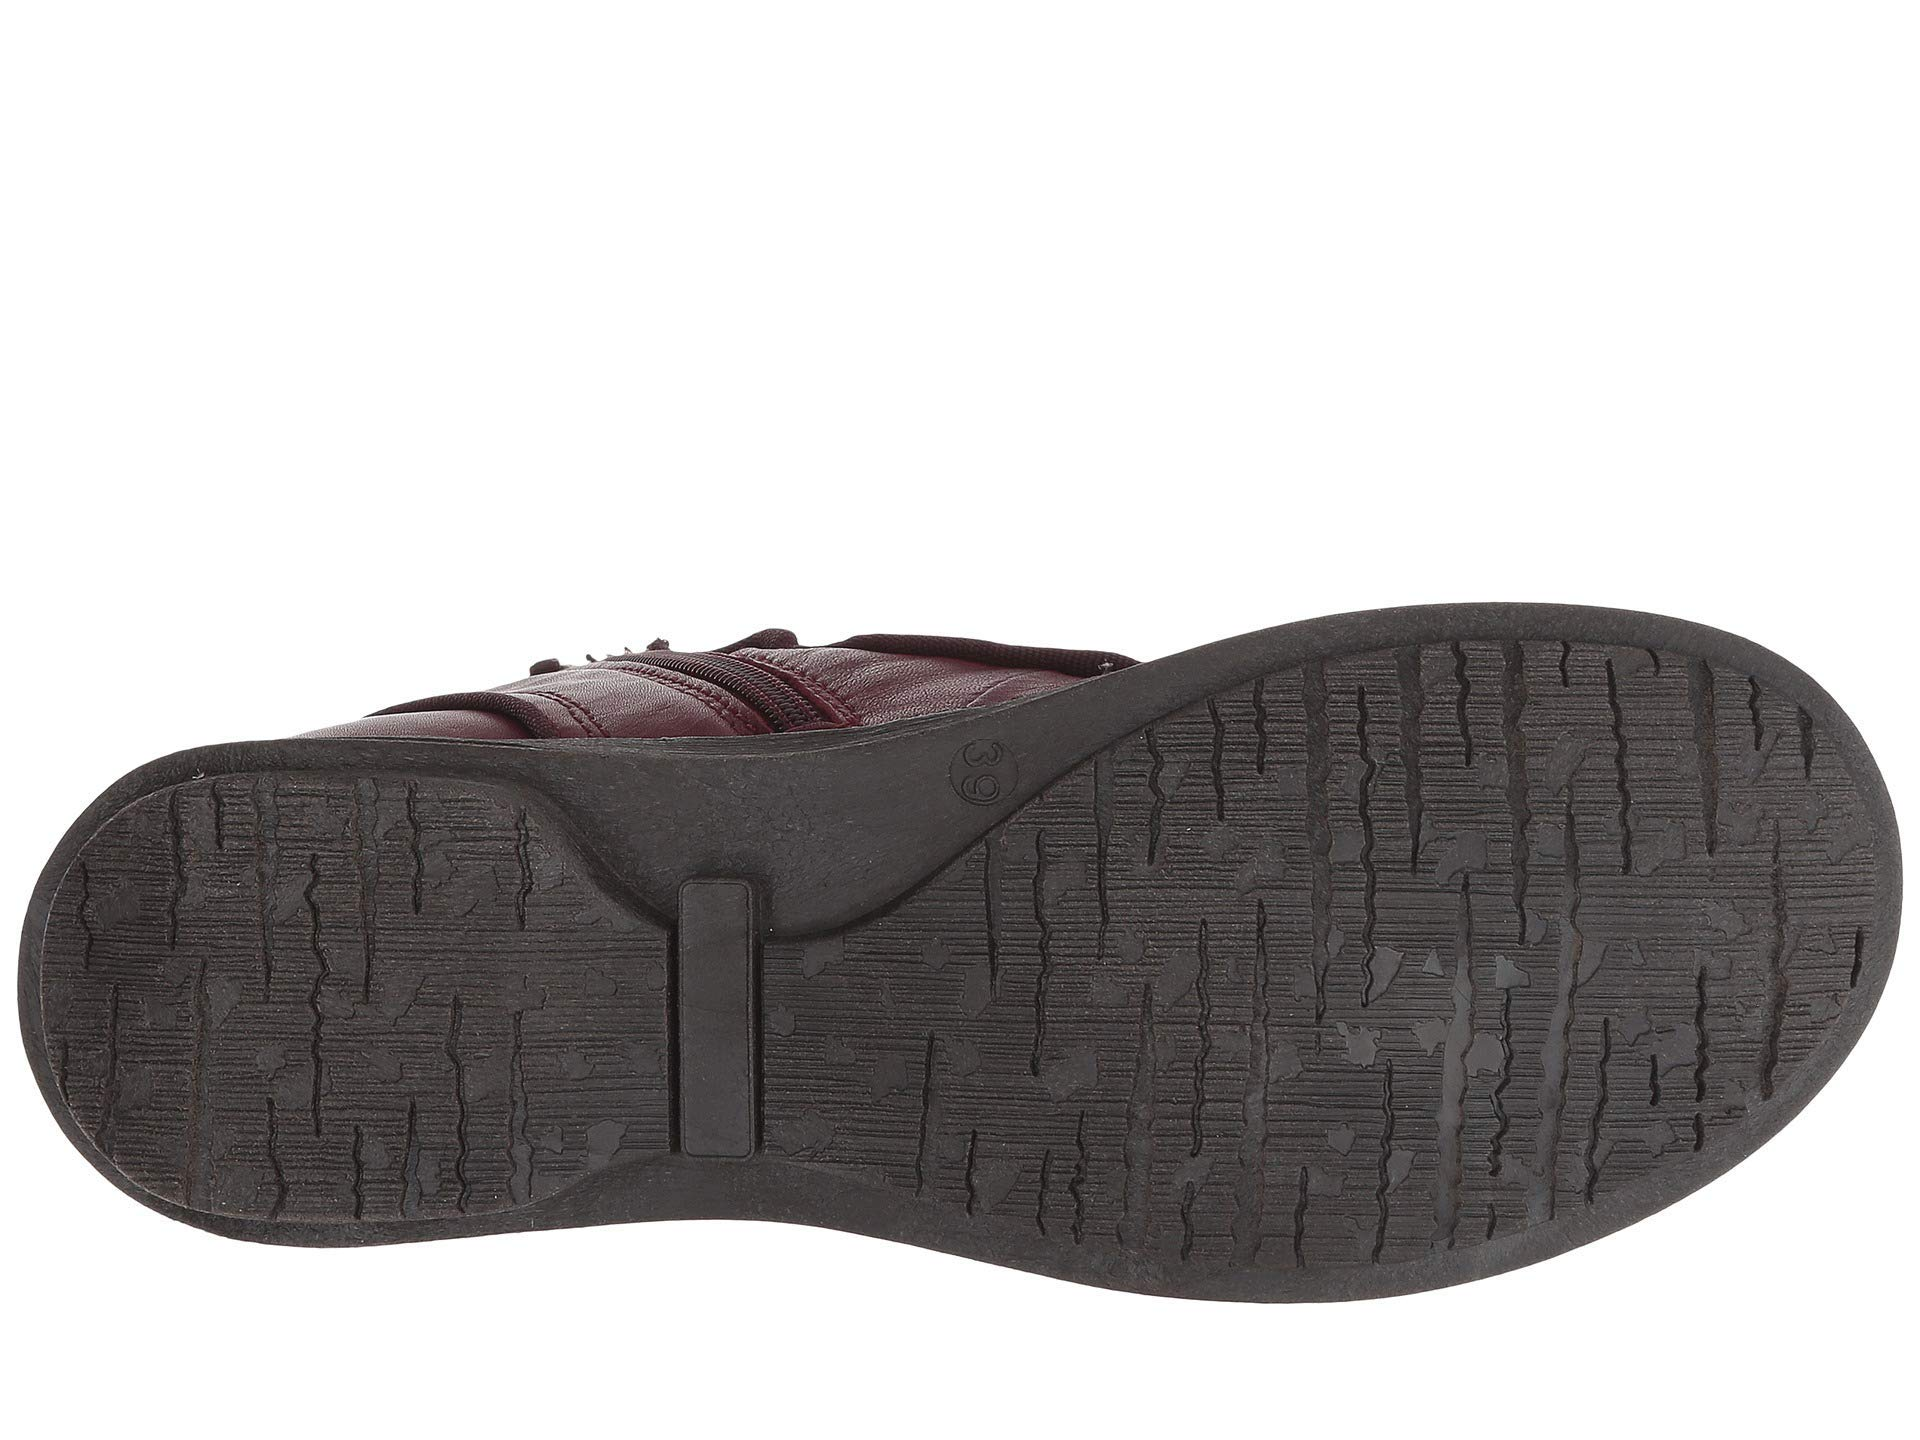chevron: (1084, 776, 1581, 1192), (154, 802, 550, 1172), (1566, 706, 1864, 1016)
circle: (934, 715, 1028, 826)
line: (1084, 776, 1581, 1192), (154, 802, 550, 1172), (614, 846, 878, 1206), (1566, 706, 1864, 1016)
quad: (614, 846, 878, 1206)
text: (934, 715, 1028, 826)
triangle: (1084, 776, 1581, 1192)
